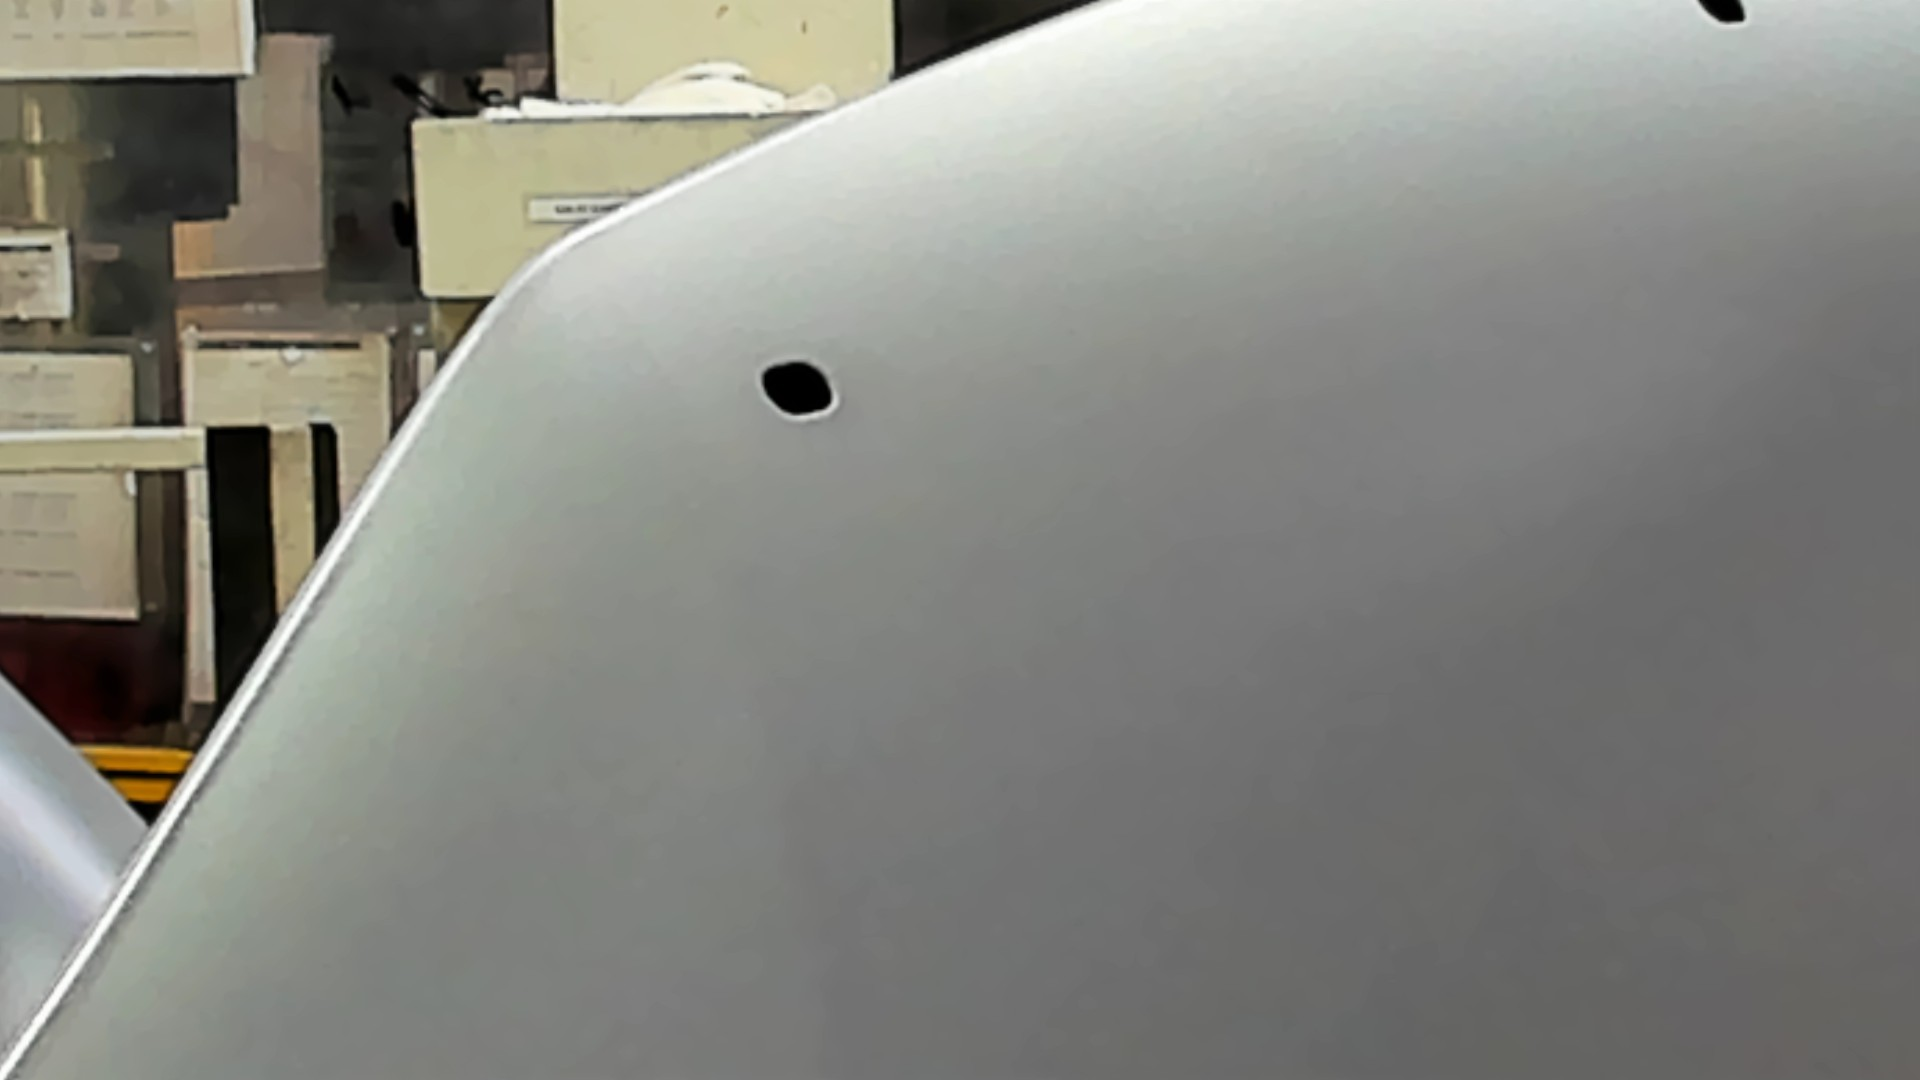amorfo: (752, 349, 848, 425), (1692, 1, 1756, 32)
